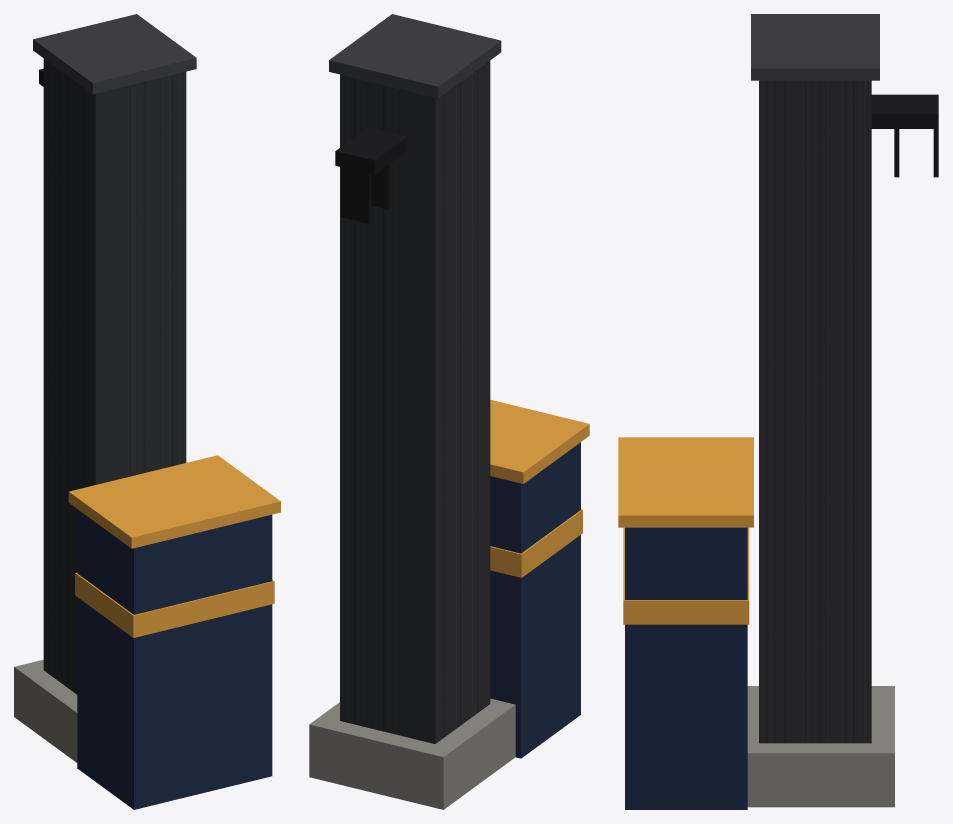
The model's file is MinidoracatKnoxPass_slidemotor1_C.glb.
3 views of the same model, side by side, from view 1: azimuth 30°, elevation 25°; view 2: azimuth 150°, elevation 25°; view 3: azimuth 270°, elevation 25° (orthographic). The views are drawn at different scales.
Parts seen in each view (by area): view 1: MinidoracatKnoxPass_slidemotor1_C; view 2: MinidoracatKnoxPass_slidemotor1_C; view 3: MinidoracatKnoxPass_slidemotor1_C.
Part boxes in pixels (x1=…): MinidoracatKnoxPass_slidemotor1_C: x1=14, y1=14, x2=280, y2=809; MinidoracatKnoxPass_slidemotor1_C: x1=309, y1=14, x2=589, y2=809; MinidoracatKnoxPass_slidemotor1_C: x1=618, y1=14, x2=938, y2=809.
Size of the model in its own units: 0.56 by 2.44 by 0.967.
1 material, 1 textured.
